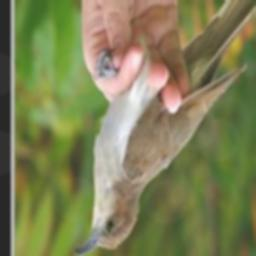Cuckoo: (74, 0, 256, 256)
